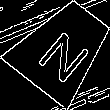N_NE: (30, 17, 95, 81)
